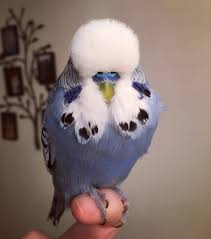budgie: (38, 15, 160, 223)
